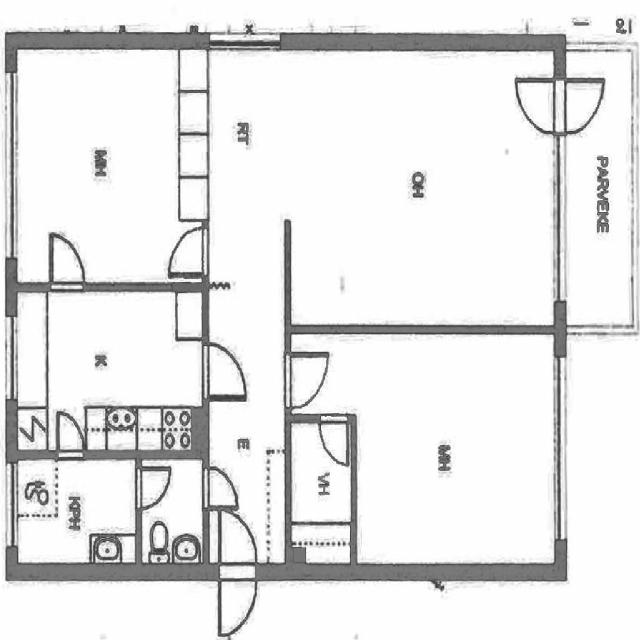door: (554, 79, 604, 134), (516, 79, 566, 134), (219, 564, 256, 634), (219, 510, 256, 580), (202, 344, 246, 397), (285, 355, 328, 409), (170, 228, 208, 274), (136, 467, 171, 509), (320, 414, 348, 464), (202, 467, 235, 507)
